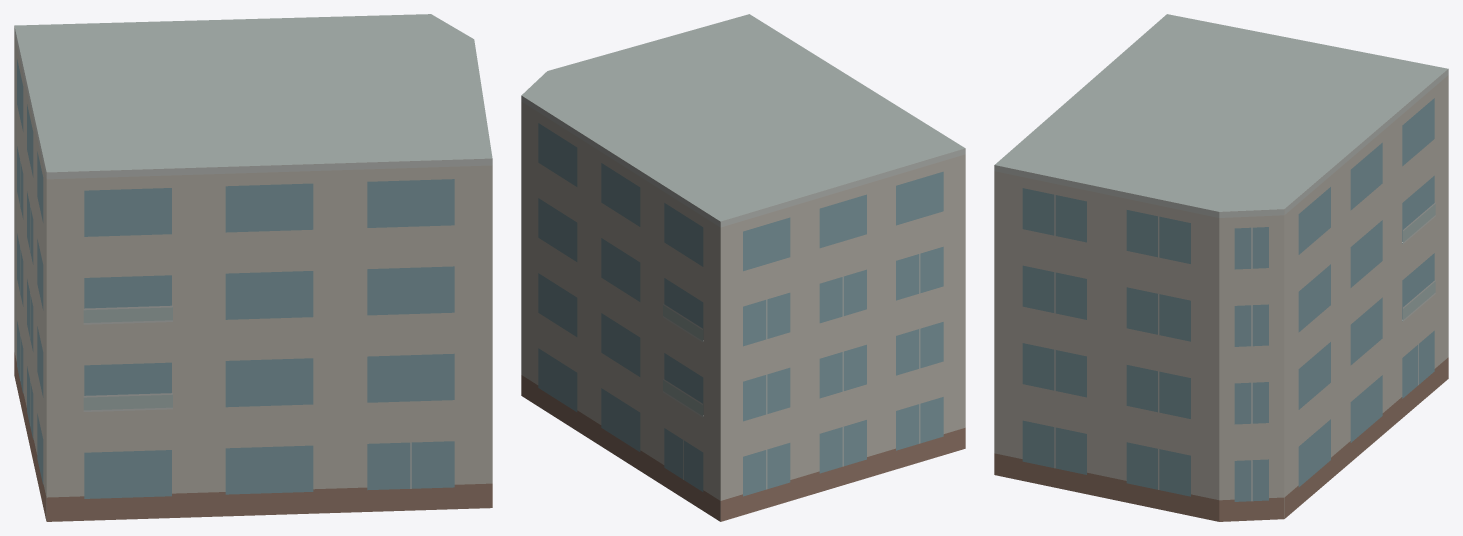
The model's file is survey-upis-32848707.glb.
3 views of the same model, side by side, from view 1: azimuth 30°, elevation 25°; view 2: azimuth 150°, elevation 25°; view 3: azimuth 270°, elevation 25° (orthographic). The views are drawn at different scales.
Visible parts, largest first — view 1: survey-upis-32848707.tmp; view 2: survey-upis-32848707.tmp; view 3: survey-upis-32848707.tmp.
Part boxes in pixels (box(x1,y1,x2,y2)): survey-upis-32848707.tmp: box(14, 14, 492, 521); survey-upis-32848707.tmp: box(521, 14, 965, 521); survey-upis-32848707.tmp: box(994, 14, 1448, 521).
Bounding box in the file's own units: 16.85 × 12.3 × 16.34.
